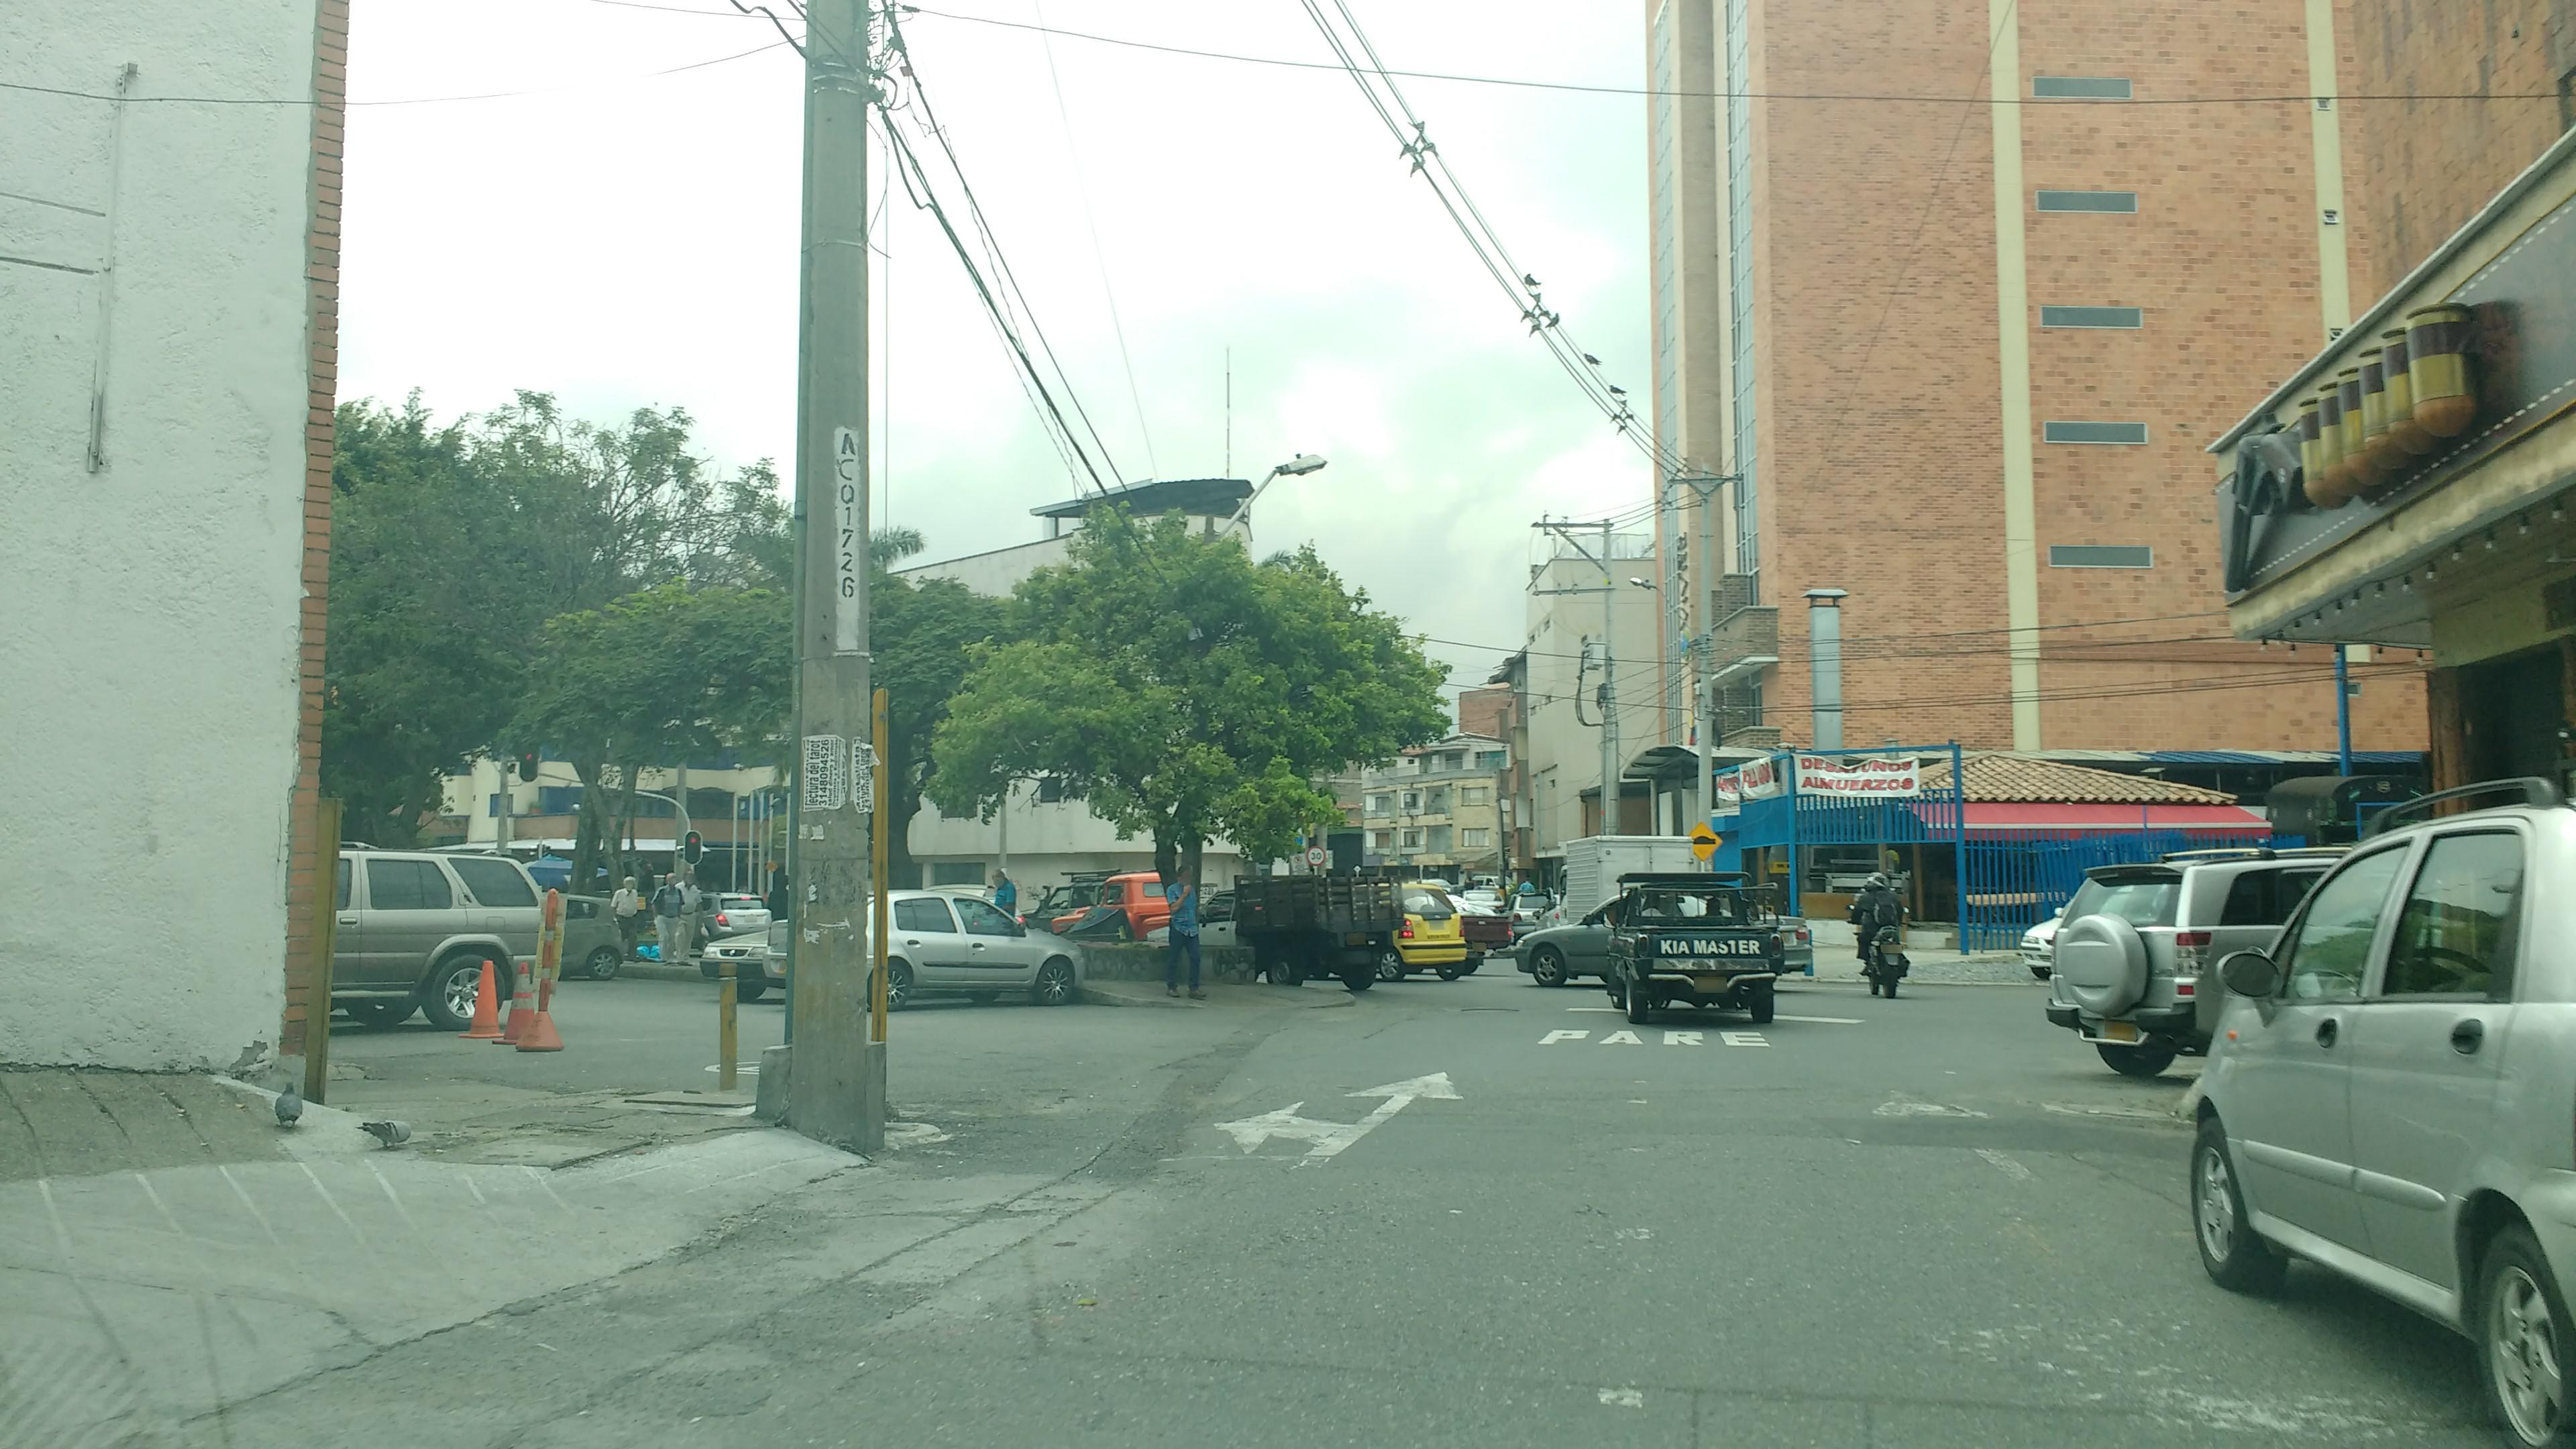vinyl banner: (1790, 745, 1916, 798), (1725, 748, 1782, 821)
